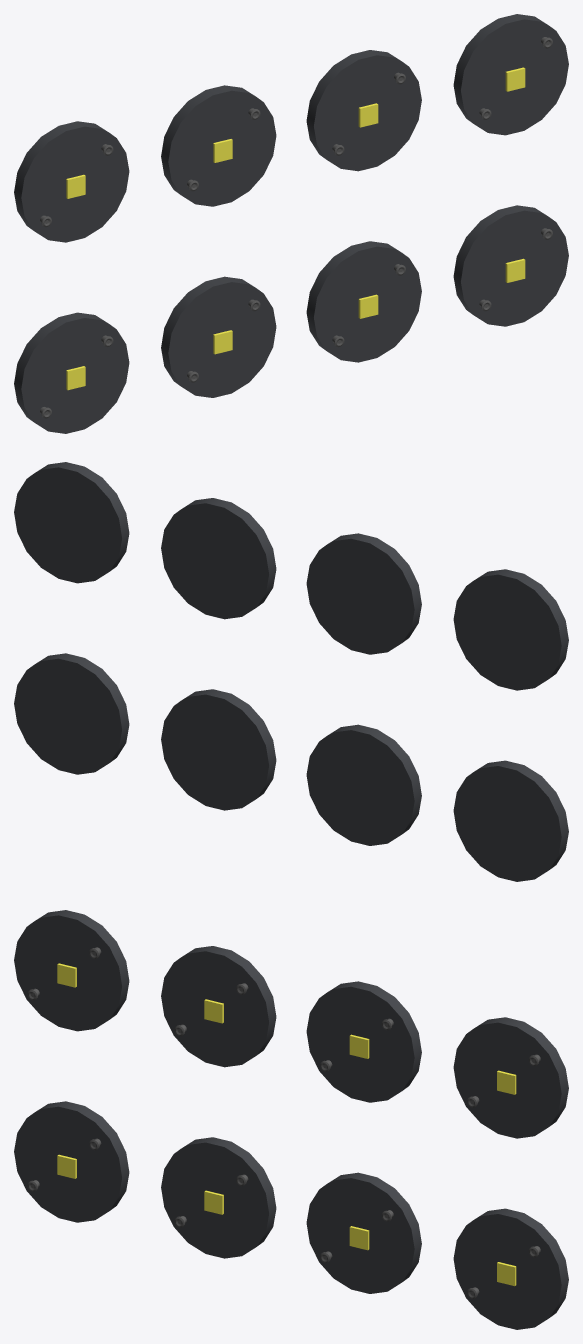
File: LEDs.glb
3 renders of one model, top to bottom at view 1: azimuth 30°, elevation 25°; view 2: azimuth 150°, elevation 25°; view 3: azimuth 330°, elevation 25°, orthographic.
Parts seen in each view (by area): view 1: Cylinder218, Cylinder225, Cylinder230, Cylinder213, Cylinder219, Cylinder224, Cylinder212, Cylinder207; view 2: Cylinder218, Cylinder219, Cylinder224, Cylinder212, Cylinder213, Cylinder225, Cylinder207, Cylinder230; view 3: Cylinder207, Cylinder230, Cylinder212, Cylinder213, Cylinder225, Cylinder224, Cylinder218, Cylinder219.
Part boxes in pixels (left/top/right/bottom): Cylinder218: left=161, top=85, right=276, bottom=206; Cylinder225: left=14, top=312, right=129, bottom=433; Cylinder230: left=161, top=276, right=276, bottom=397; Cylinder213: left=14, top=121, right=129, bottom=242; Cylinder219: left=306, top=241, right=421, bottom=362; Cylinder224: left=453, top=205, right=568, bottom=326; Cylinder212: left=453, top=14, right=568, bottom=135; Cylinder207: left=306, top=50, right=421, bottom=171; Cylinder218: left=306, top=533, right=421, bottom=654; Cylinder219: left=161, top=689, right=276, bottom=810; Cylinder224: left=14, top=653, right=129, bottom=774; Cylinder212: left=14, top=462, right=129, bottom=583; Cylinder213: left=453, top=569, right=568, bottom=690; Cylinder225: left=453, top=760, right=568, bottom=881; Cylinder207: left=161, top=498, right=276, bottom=619; Cylinder230: left=306, top=724, right=421, bottom=845; Cylinder207: left=306, top=981, right=421, bottom=1102; Cylinder230: left=161, top=1137, right=276, bottom=1258; Cylinder212: left=453, top=1017, right=568, bottom=1138; Cylinder213: left=14, top=910, right=129, bottom=1031; Cylinder225: left=14, top=1101, right=129, bottom=1222; Cylinder224: left=453, top=1208, right=568, bottom=1329; Cylinder218: left=161, top=946, right=276, bottom=1067; Cylinder219: left=306, top=1172, right=421, bottom=1293.
Bounding box in the file's own units: 3.04 × 1.6 × 0.108.
